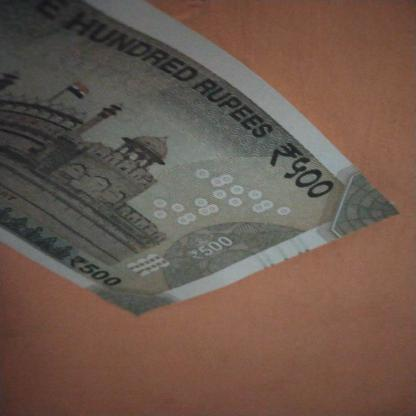New500Back: (0, 0, 337, 299)
